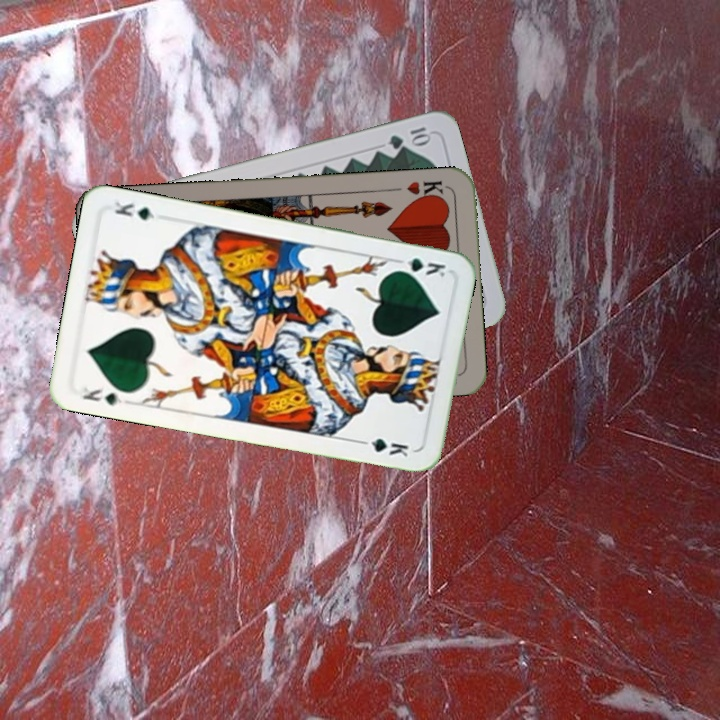G10: (384, 122, 434, 152)
GK: (390, 254, 448, 280), (79, 382, 125, 408)
HK: (403, 177, 449, 203)
